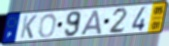2: (108, 7, 130, 34)
4: (130, 5, 149, 33)
9: (62, 10, 82, 39)
A: (79, 9, 103, 37)
K: (19, 15, 39, 40)
O: (38, 13, 58, 39)
